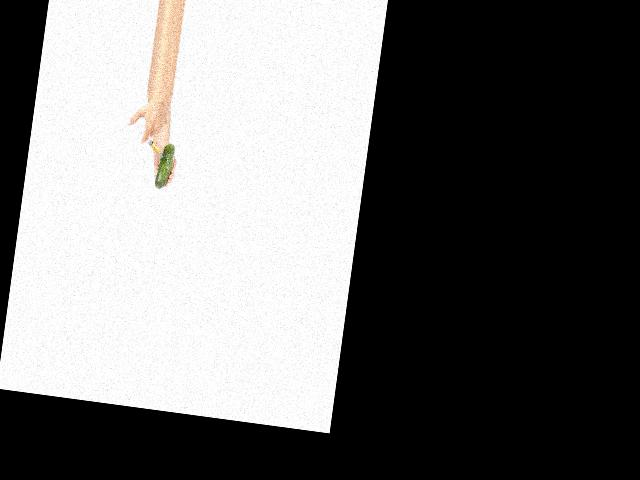cucumber: (154, 142, 175, 190)
